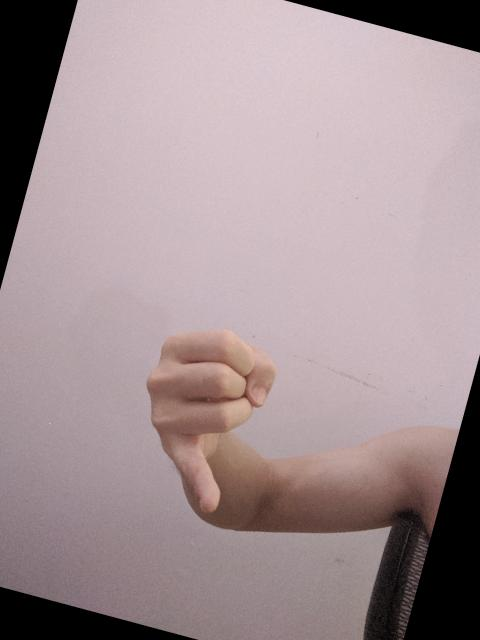J: (105, 305, 293, 533)
